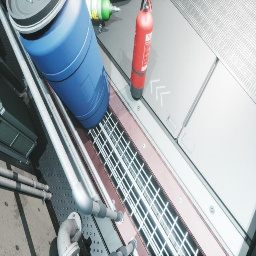0: (86, 0, 120, 22)
FireExtinguisher ]: (130, 0, 153, 98)
